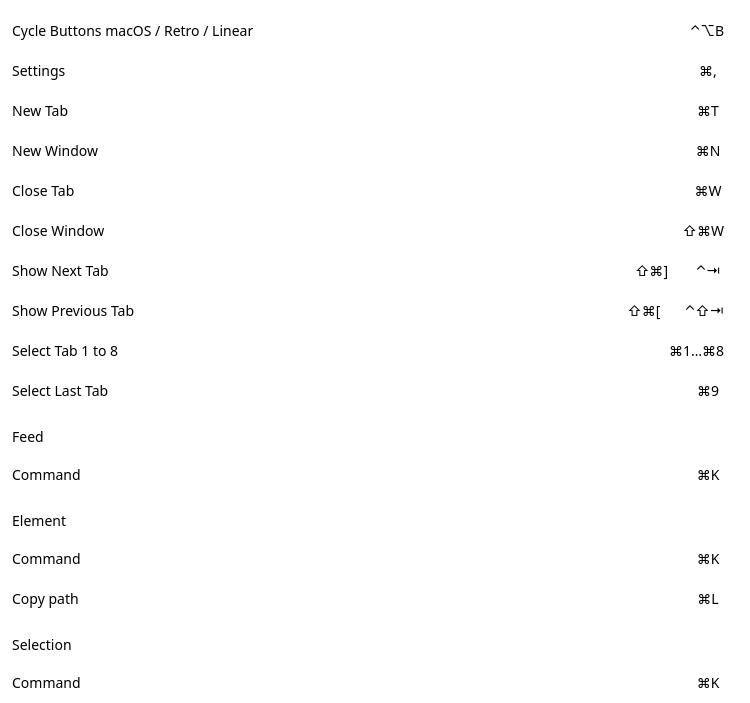
ShortcutsSection › rejects bare and system keys beside the active command
The image size is (750, 703).
(page scrolled)
Click the button "⌘L" at (708, 599), box x1=684 y1=589 x2=732 y2=609
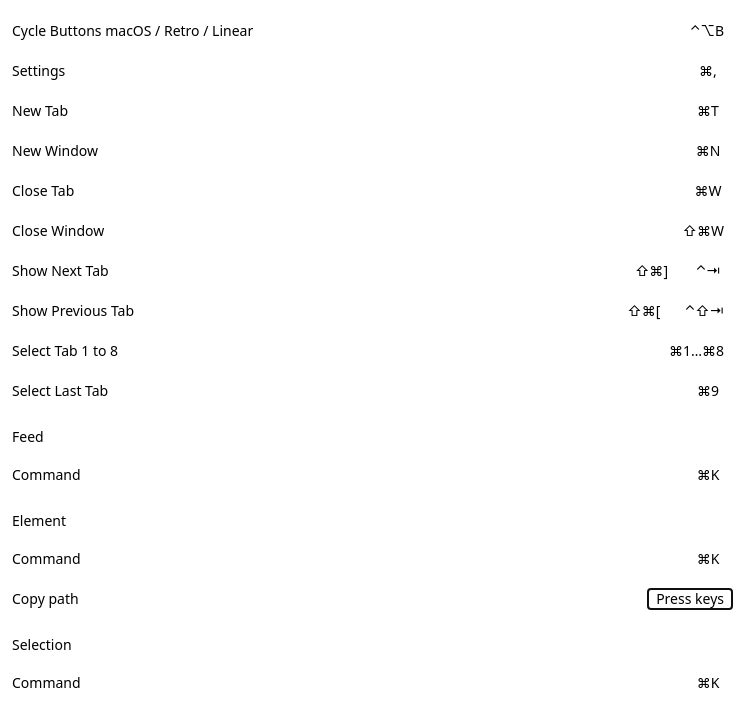
Press j in the button "Press keys", box x1=648 y1=589 x2=732 y2=609
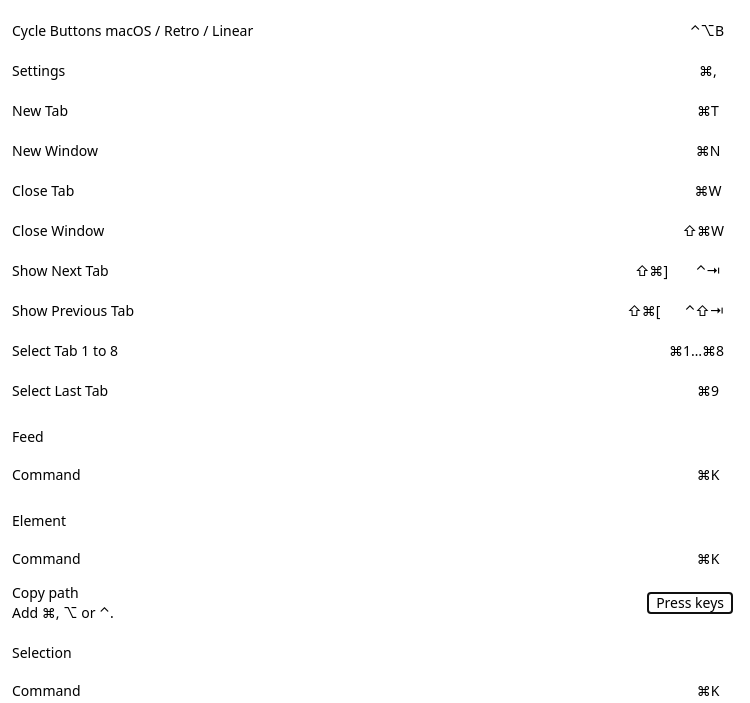
Now the message shows "Add ⌘", box x1=12 y1=603 x2=114 y2=622
Press q in the button "Press keys", box x1=648 y1=593 x2=732 y2=613
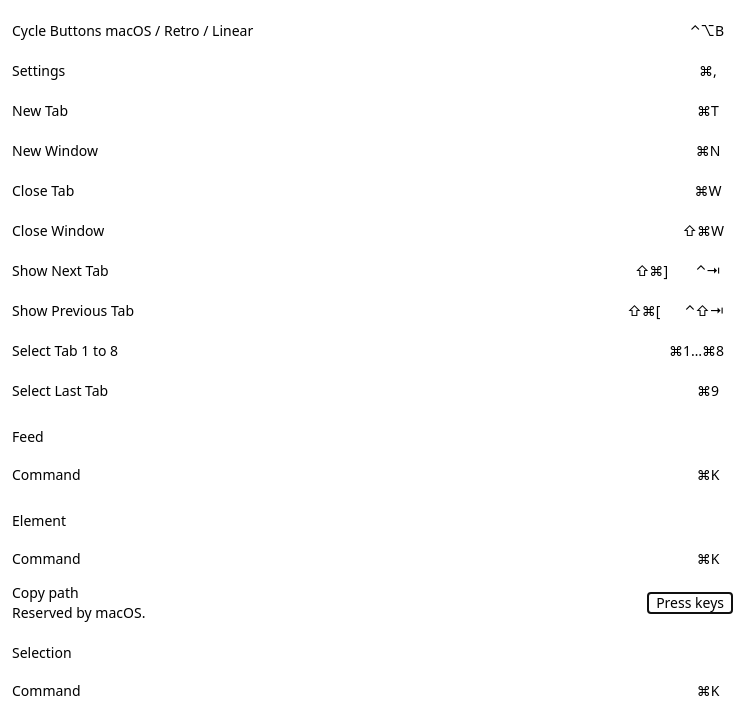
Now the message shows "macOS", box x1=12 y1=603 x2=145 y2=622
